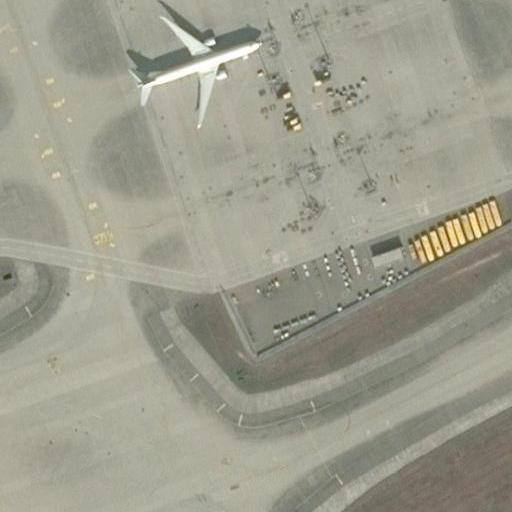Aircraft: (124, 8, 268, 126)
